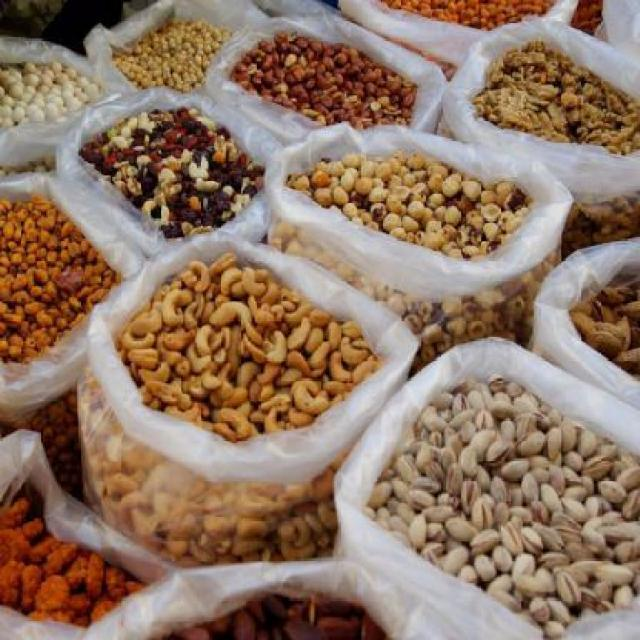Frutta secca: (379, 392, 639, 623), (126, 261, 345, 434), (308, 150, 522, 250), (92, 108, 243, 222), (492, 49, 640, 151), (246, 36, 408, 127), (3, 196, 100, 347), (131, 26, 220, 82)
